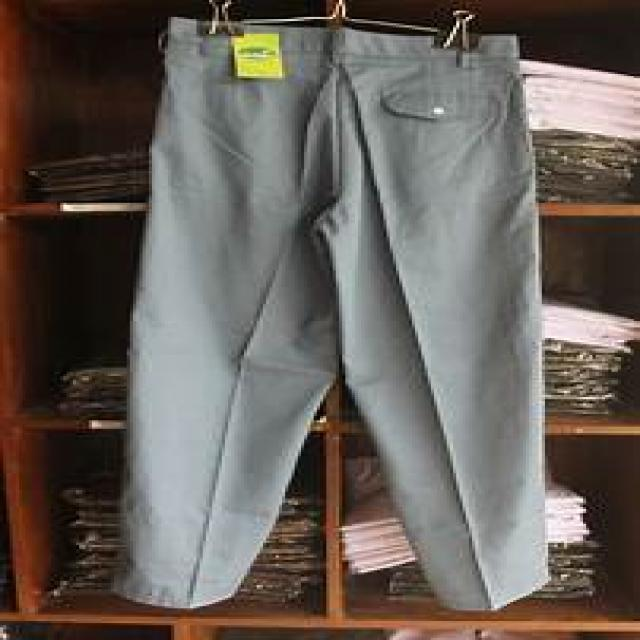long-pants: (103, 14, 553, 612)
